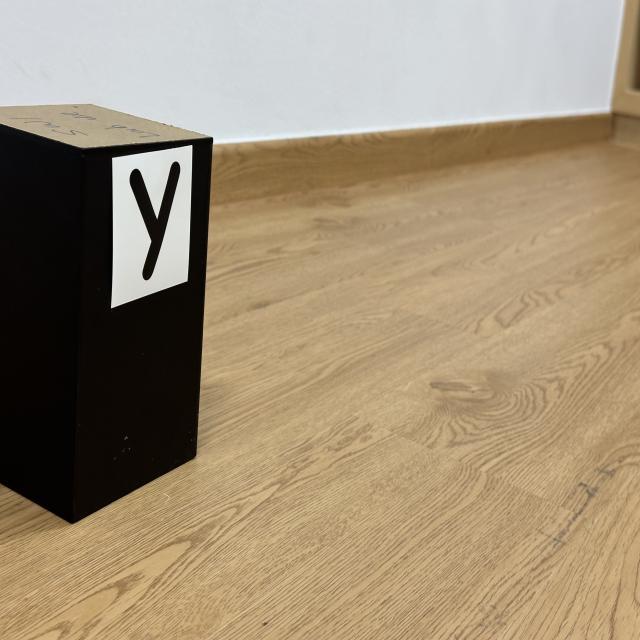Y: (130, 162, 180, 280)
